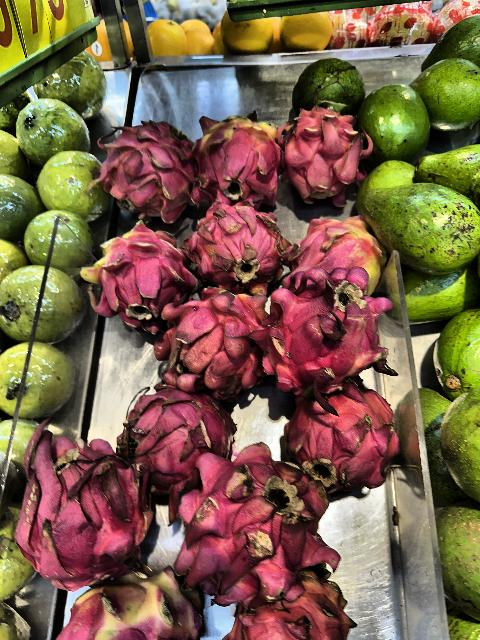buah-naga-belum-matang: (90, 220, 202, 316), (65, 572, 207, 640), (185, 108, 281, 205), (282, 202, 384, 290)
buah-naga-matang: (182, 434, 330, 588), (16, 410, 140, 582), (256, 284, 394, 386), (280, 376, 394, 492), (130, 375, 244, 481), (150, 282, 266, 382), (276, 104, 374, 206), (226, 566, 360, 640), (103, 116, 198, 214), (191, 200, 285, 282)
